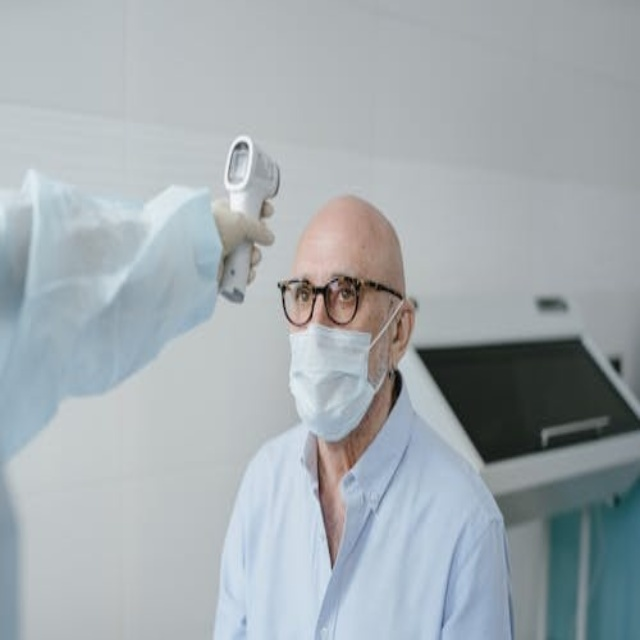Gafas: (277, 276, 404, 327)
Guantes: (211, 196, 275, 295)
Mascara: (289, 299, 398, 442)
